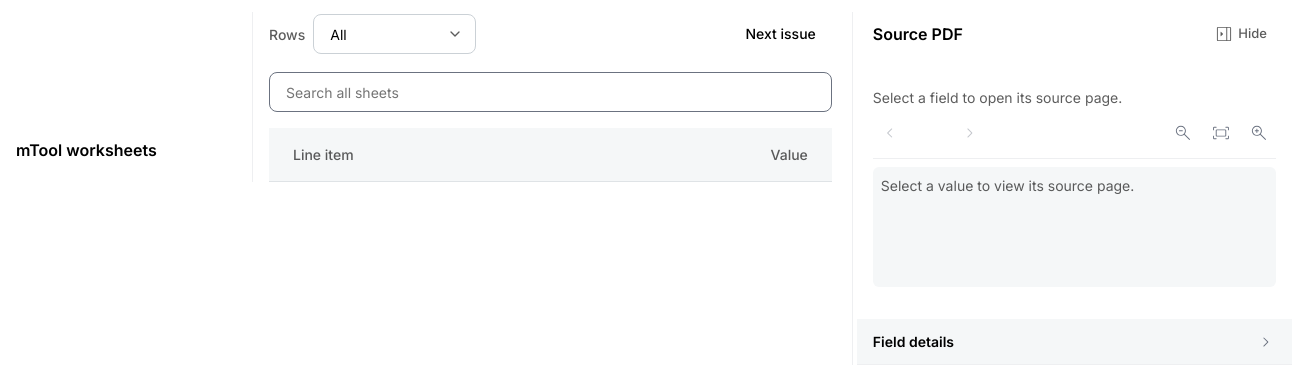
ConceptsPage › mixed-shape search results render the linear tree, not the matrix grid
Search "Profit" matches both the matrix and the linear concept.
Type "Profit" into the search field with test id "concept-search" at [550, 92], box [269,72,832,112]
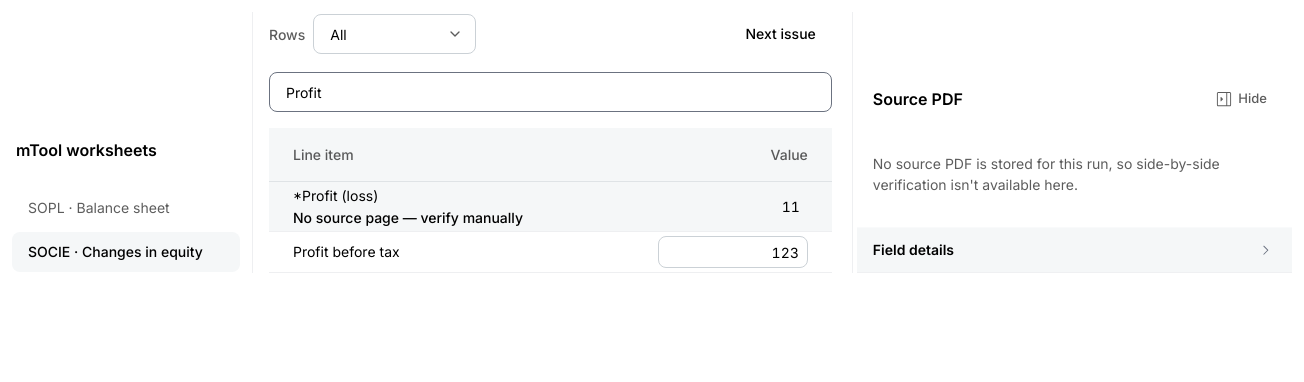
Expected: the list item with test id "concept-row-leaf-1" is shown, [269,232,832,273]
